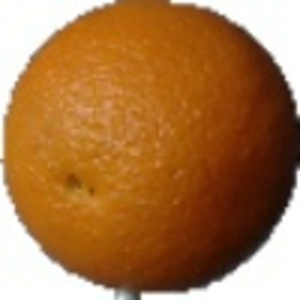laranja: (5, 2, 297, 297)
